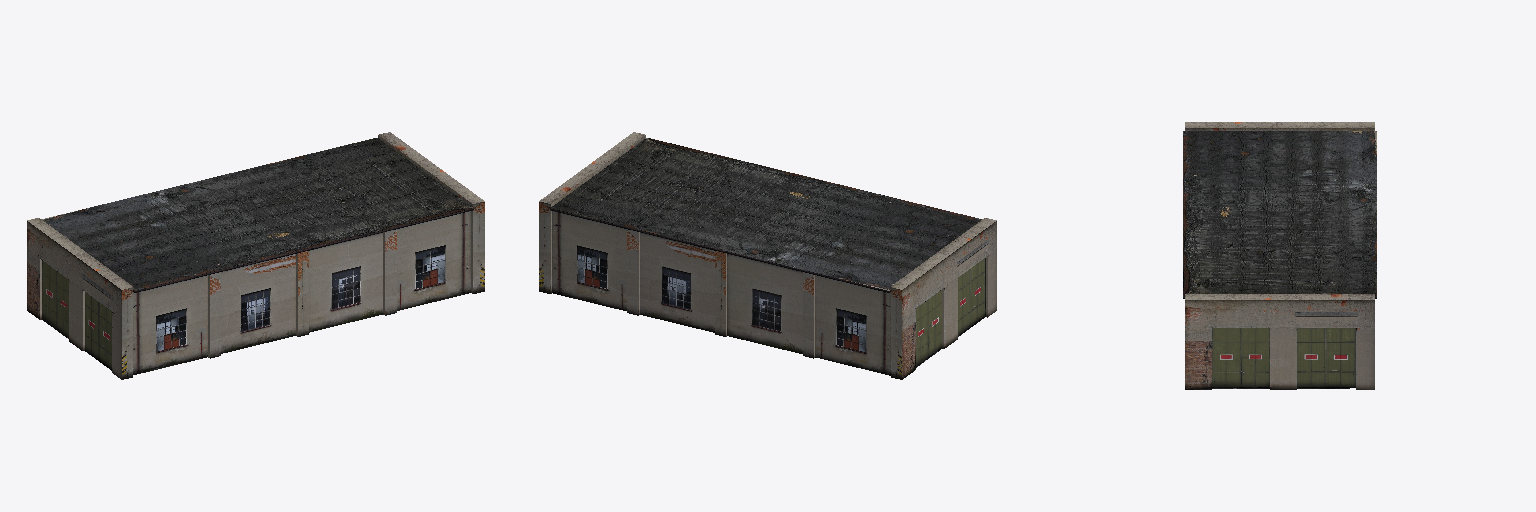
3 renders of one model, left to right at view 1: azimuth 30°, elevation 25°; view 2: azimuth 150°, elevation 25°; view 3: azimuth 270°, elevation 25°, orthographic.
Parts seen in each view (by area): view 1: rail_depot; view 2: rail_depot; view 3: rail_depot.
Part boxes in pixels (x1,y1,x2,y2): rail_depot: (27,132,484,379); rail_depot: (539,132,996,379); rail_depot: (1183,122,1376,389).
Size of the model in its own units: 22 by 5.22 by 10.14.
Materials: 1 (1 with a texture image).